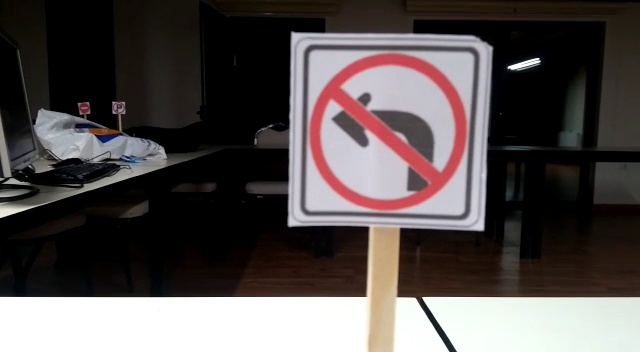sola_donulmez: (292, 41, 485, 222)
